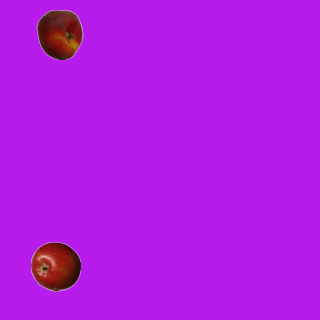Apple Braeburn: (30, 241, 80, 291)
Nectarine Flat: (34, 9, 84, 59)
